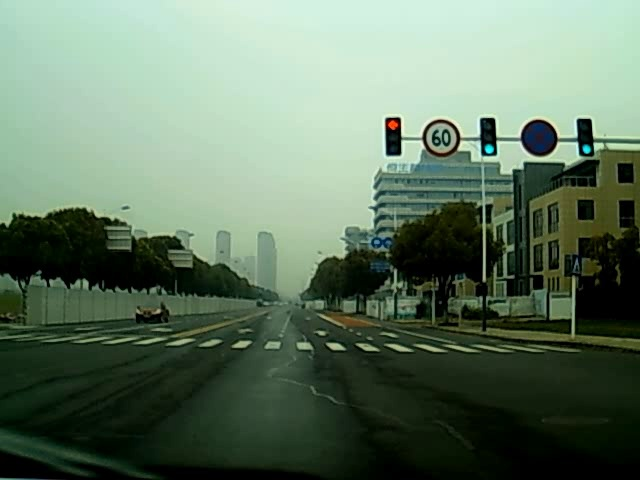Traffic_Light_go: (578, 120, 595, 158), (482, 118, 496, 157)
Traffic_Light_stop: (384, 118, 399, 158)
